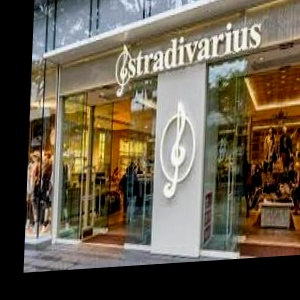stradivarius: (136, 38, 268, 155), (92, 47, 300, 85)
